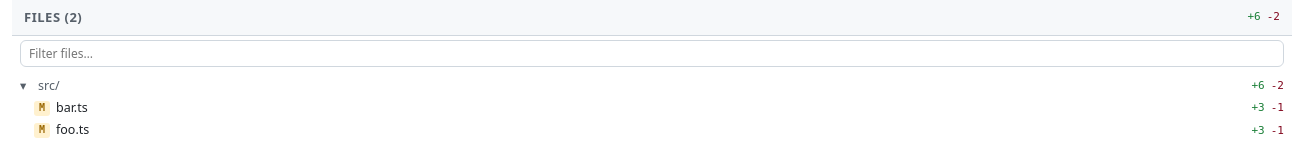
it: FileTree › the clear button resets the filter
In the field with placeholder "Filter files…": point(652, 54) x1=20 y1=40 x2=1284 y2=67, type "foo"
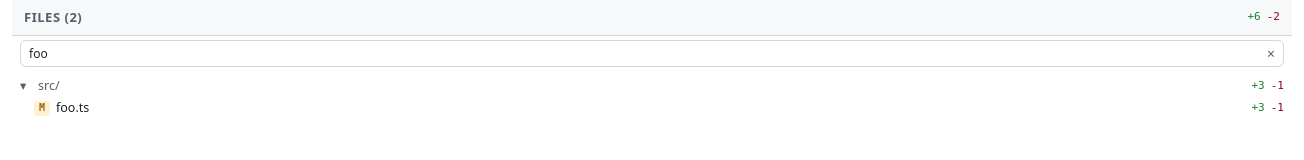
Expected: the button "bar.ts" is gone
// Clear button only renders while the filter is non-empty.
Click the button titled "Clear filter": point(1271, 54) x1=1262 y1=44 x2=1280 y2=62
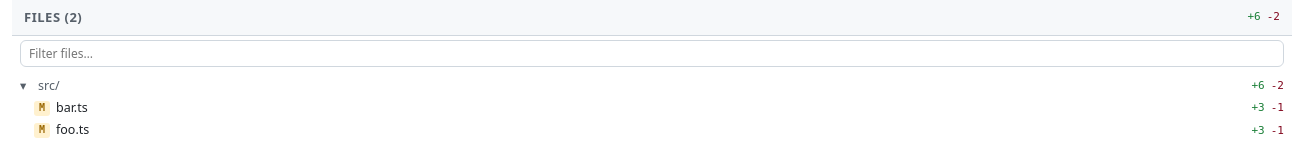
Expected: the text "bar.ts" is shown, x1=56 y1=99 x2=88 y2=116
